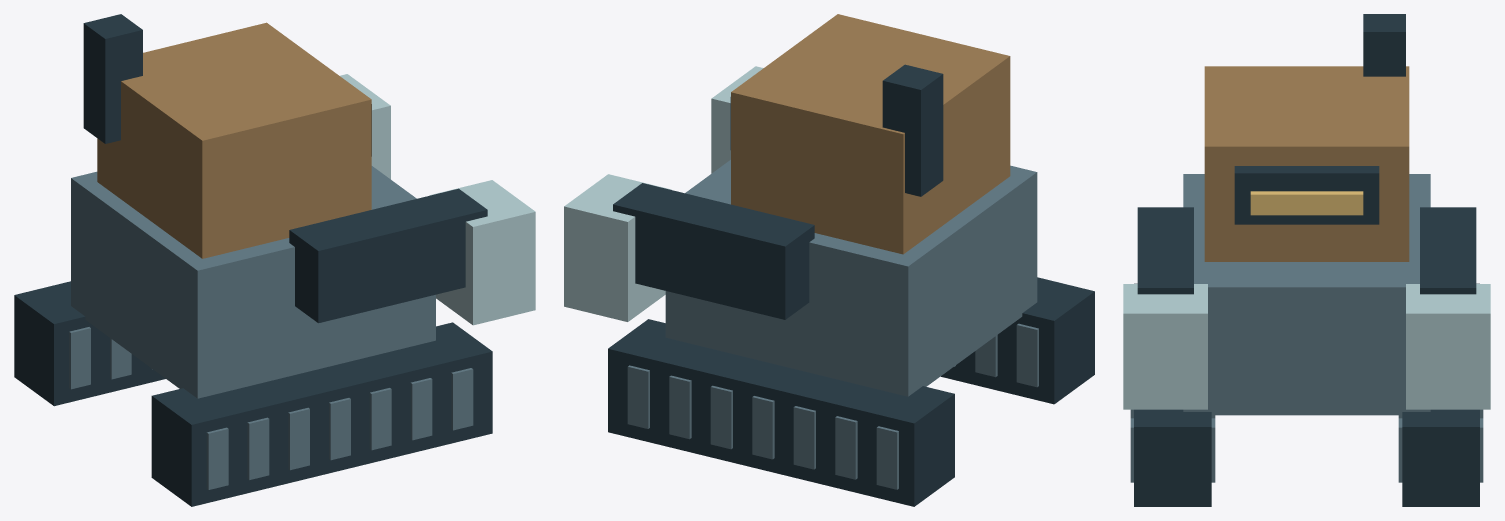
The model's file is insane-worker.glb.
3 renders of one model, left to right at view 1: azimuth 30°, elevation 25°; view 2: azimuth 150°, elevation 25°; view 3: azimuth 270°, elevation 25°, orthographic. The views are drawn at different scales.
Visible parts, largest first — view 1: UpperHull, Chassis, Tracks, ToolArms, TreadRibs, ToolClamps, Exhaust; view 2: UpperHull, Chassis, Tracks, ToolArms, TreadRibs, ToolClamps, Exhaust; view 3: Chassis, UpperHull, ToolClamps, Tracks, ToolArms, OpticHousing, OpticLens, Exhaust, TreadRibs.
Part boxes in pixels (x1,y1,x2,y2): UpperHull: (97,22,371,258); Chassis: (71,166,435,398); Tracks: (14,281,492,506); ToolArms: (289,188,487,323); TreadRibs: (69,327,473,489); ToolClamps: (340,74,535,325); Exhaust: (83,14,142,143); UpperHull: (731,14,1010,254); Chassis: (665,160,1037,396); Tracks: (608,277,1094,506); ToolArms: (613,183,814,319); TreadRibs: (627,323,1038,489); ToolClamps: (564,66,763,321); Exhaust: (882,64,943,196); Chassis: (1183,174,1430,415); UpperHull: (1204,66,1409,261); ToolClamps: (1123,284,1490,409); Tracks: (1134,283,1479,506); ToolArms: (1137,207,1476,294); OpticHousing: (1234,166,1379,224); OpticLens: (1250,191,1363,215); Exhaust: (1363,14,1405,76); TreadRibs: (1130,409,1483,482).
Bounding box in the file's own units: 5.4 × 5.7 × 5.2.
